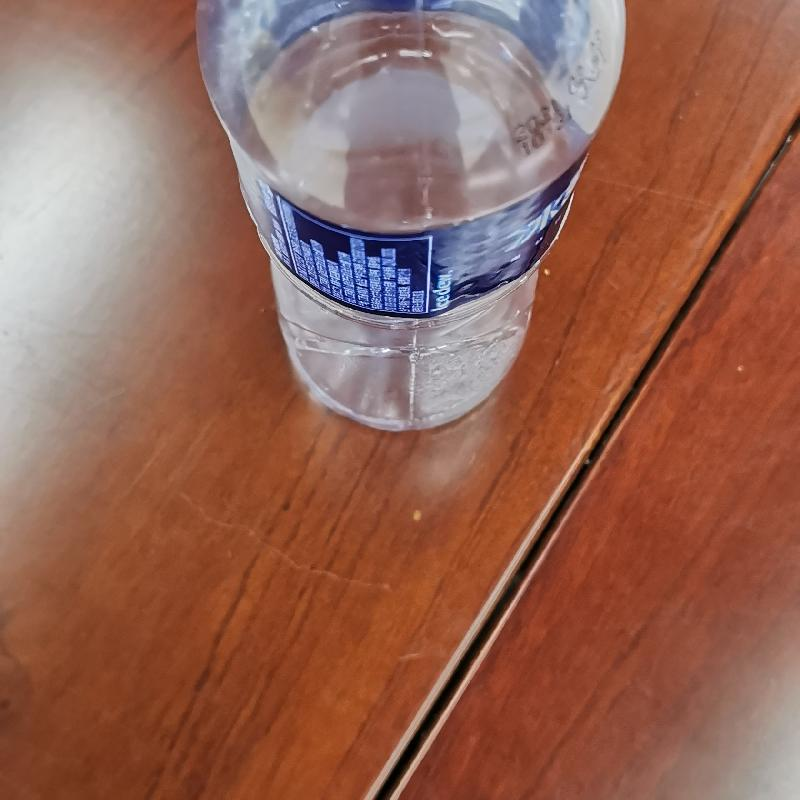bottles: (182, 4, 621, 433)
